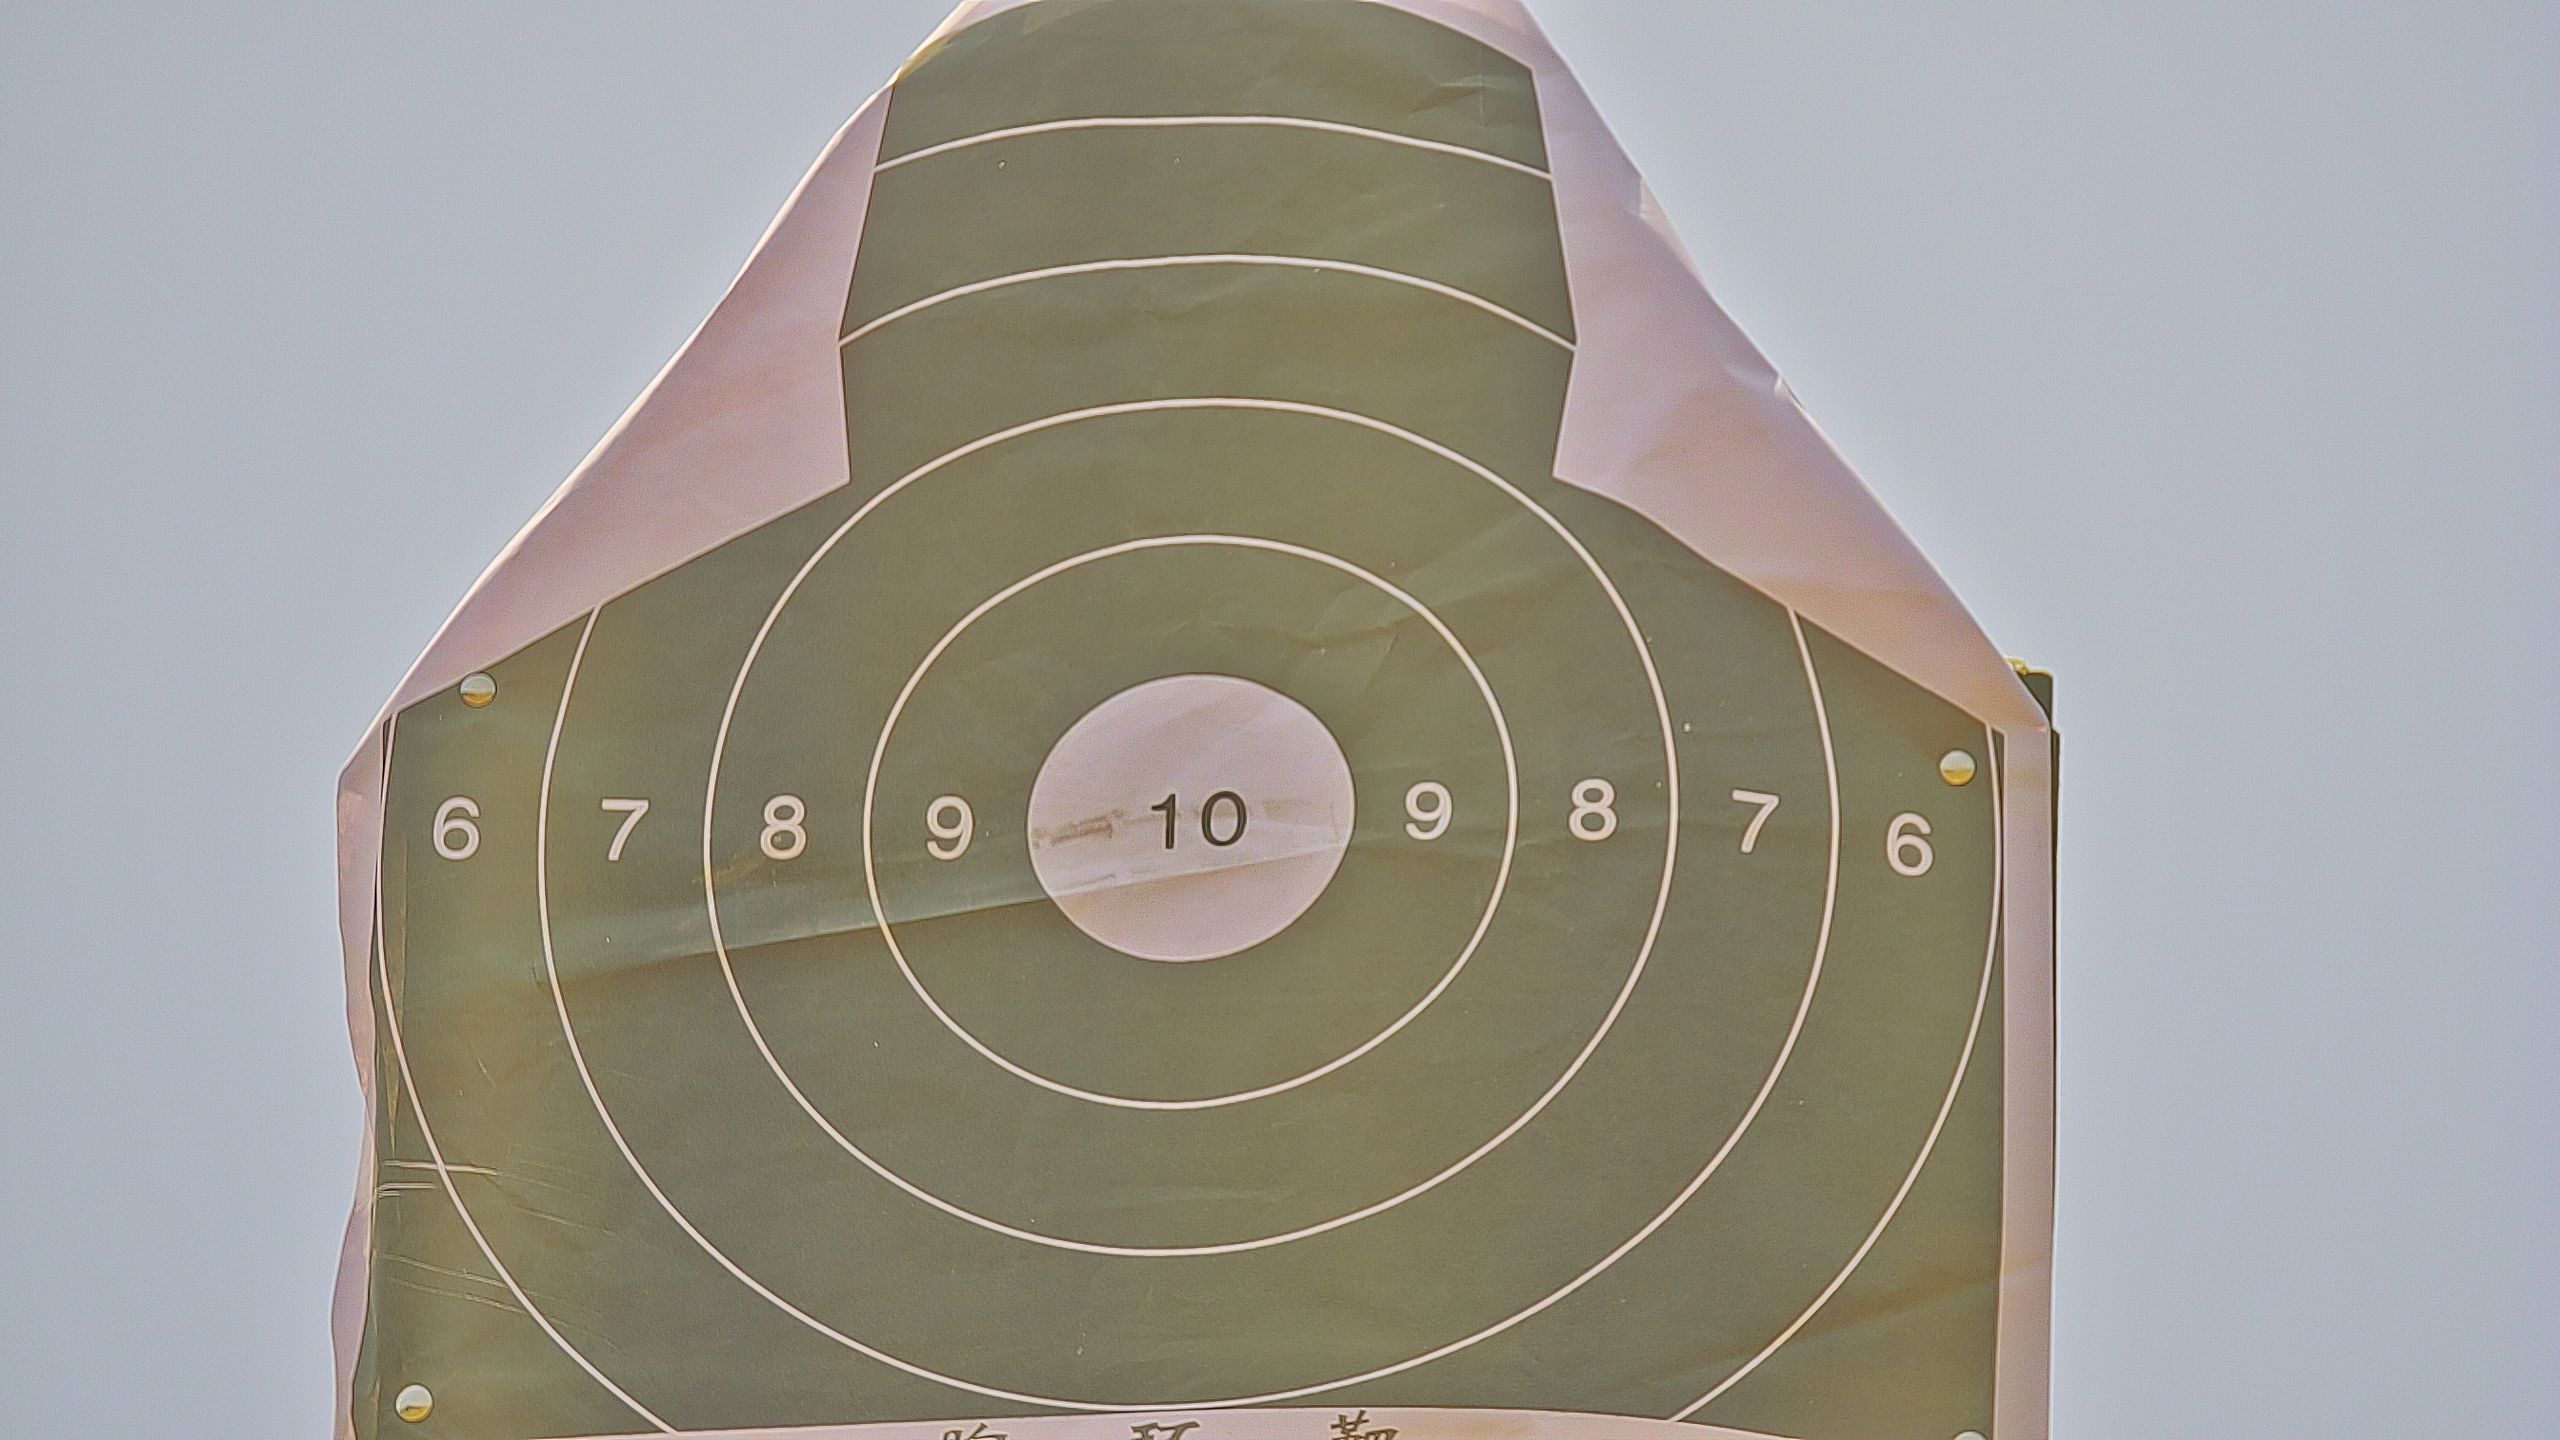target: (360, 7, 2011, 1440)
ten: (1016, 668, 1361, 962)
